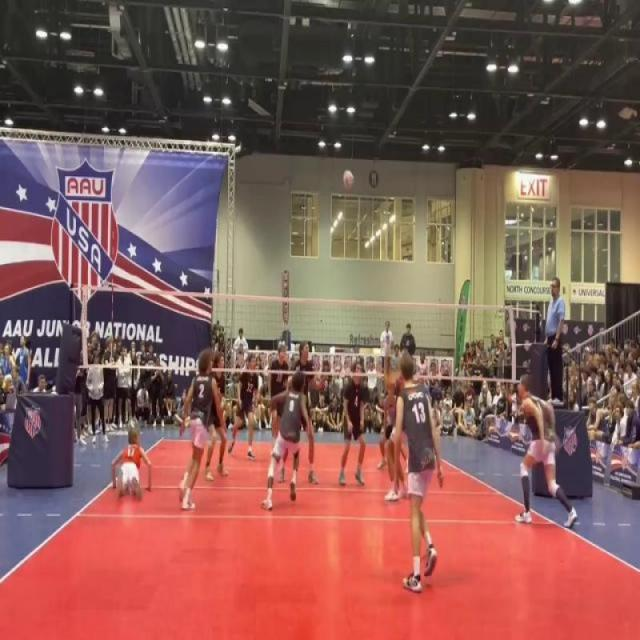volleyball: (341, 168, 356, 195)
